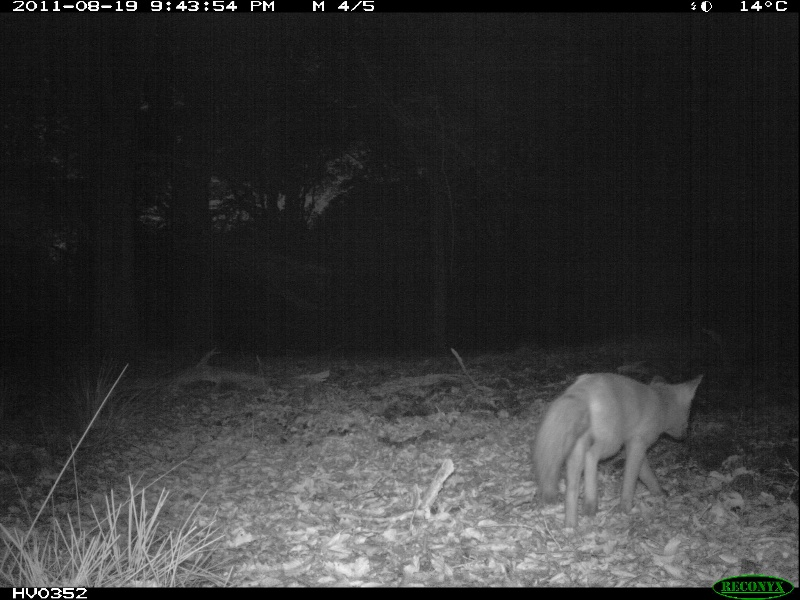fox: (529, 361, 712, 537)
